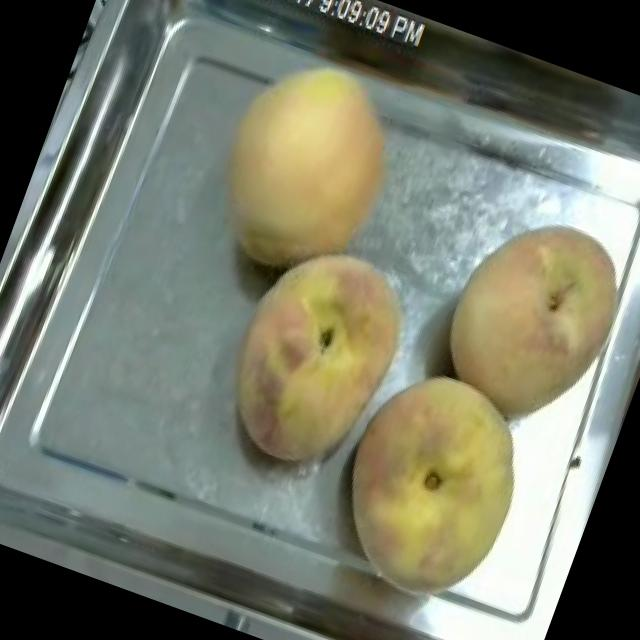Fruit: (306, 344, 558, 624), (181, 30, 431, 308), (195, 219, 437, 495), (417, 189, 640, 448)
